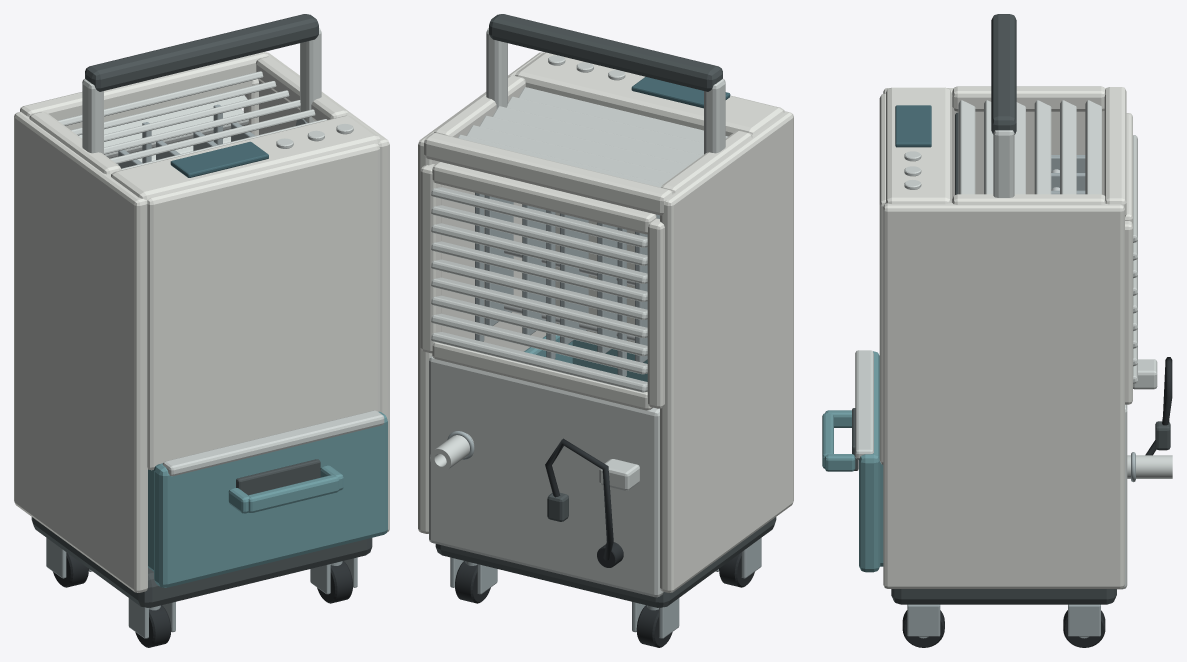
The model's file is city-portable-dehumidifier.glb.
3 views of the same model, side by side, from view 1: azimuth 30°, elevation 25°; view 2: azimuth 150°, elevation 25°; view 3: azimuth 270°, elevation 25° (orthographic). The views are drawn at different scales.
Visible parts, largest first — view 1: Assembly | Warm ivory appliance enamel, Assembly | Muted teal removable reservoir, Assembly | Pale molded trim, Assembly | Dark interior mechanical material, Assembly | Satin galvanized mounting metal, Assembly | Graphite rubber and seals, Assembly | Inactive blue grey control panel; view 2: Assembly | Warm ivory appliance enamel, Assembly | Pale molded trim, Assembly | Dark interior mechanical material, Assembly | Satin galvanized mounting metal, Assembly | Graphite rubber and seals, Assembly | Inactive blue grey control panel, Assembly | Muted teal removable reservoir, Assembly | Satin pipe and shaft metal; view 3: Assembly | Warm ivory appliance enamel, Assembly | Pale molded trim, Assembly | Dark interior mechanical material, Assembly | Muted teal removable reservoir, Assembly | Satin galvanized mounting metal, Assembly | Graphite rubber and seals, Assembly | Inactive blue grey control panel.
Boxes of the visible parts, bbox=[...] form: Assembly | Warm ivory appliance enamel: bbox=[14, 52, 389, 592]; Assembly | Muted teal removable reservoir: bbox=[148, 411, 387, 587]; Assembly | Pale molded trim: bbox=[58, 28, 384, 568]; Assembly | Dark interior mechanical material: bbox=[31, 14, 372, 607]; Assembly | Satin galvanized mounting metal: bbox=[46, 104, 357, 638]; Assembly | Graphite rubber and seals: bbox=[53, 552, 352, 647]; Assembly | Inactive blue grey control panel: bbox=[170, 141, 268, 177]; Assembly | Warm ivory appliance enamel: bbox=[418, 52, 793, 592]; Assembly | Pale molded trim: bbox=[429, 28, 728, 597]; Assembly | Dark interior mechanical material: bbox=[435, 14, 776, 607]; Assembly | Satin galvanized mounting metal: bbox=[447, 192, 761, 638]; Assembly | Graphite rubber and seals: bbox=[455, 438, 754, 647]; Assembly | Inactive blue grey control panel: bbox=[631, 76, 730, 108]; Assembly | Muted teal removable reservoir: bbox=[524, 335, 647, 381]; Assembly | Satin pipe and shaft metal: bbox=[504, 250, 634, 341]; Assembly | Warm ivory appliance enamel: bbox=[879, 86, 1132, 588]; Assembly | Pale molded trim: bbox=[855, 100, 1172, 589]; Assembly | Dark interior mechanical material: bbox=[852, 14, 1170, 604]; Assembly | Muted teal removable reservoir: bbox=[822, 351, 883, 572]; Assembly | Satin galvanized mounting metal: bbox=[907, 155, 1135, 638]; Assembly | Graphite rubber and seals: bbox=[902, 357, 1172, 647]; Assembly | Inactive blue grey control panel: bbox=[895, 105, 931, 147].
Size of the model in its own units: 0.34 by 0.6995 by 0.4145.
